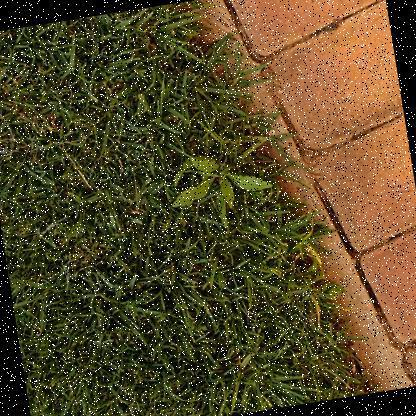Weeds: (164, 143, 276, 218)
